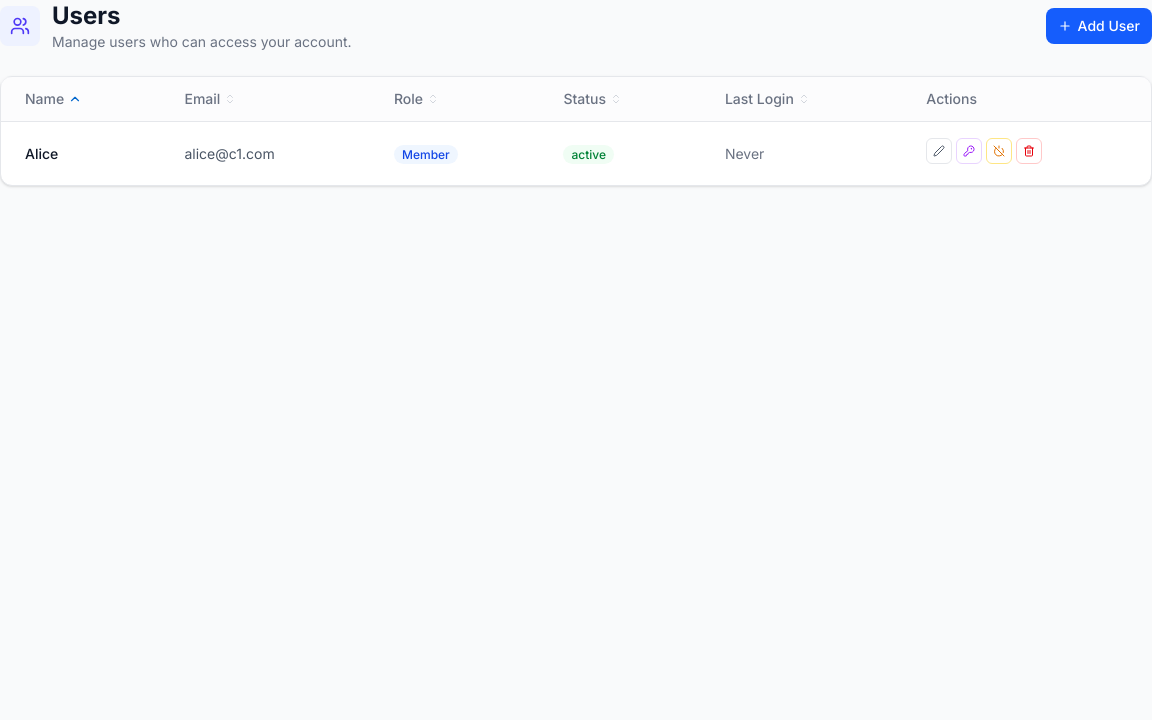
Test: SubUsers Page › as client_admin › with a row to edit › opens the edit modal when the edit button is clicked
The width and height of the screenshot is (1152, 720).
Click the button with test id "edit-user-u1".
click(939, 151)  # box x1=926 y1=138 x2=952 y2=164
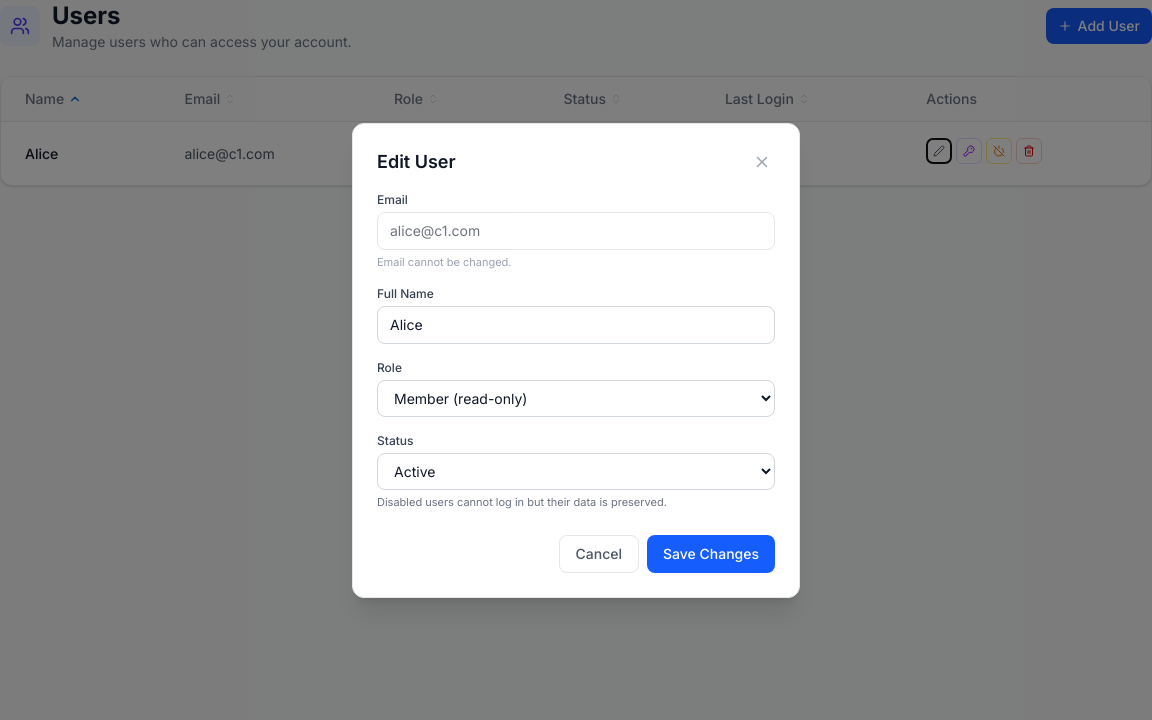
Expected: the element with test id "edit-user-modal" is shown
Expected: the field with test id "edit-user-name-input" holds "Alice", x1=377 y1=306 x2=775 y2=344
Expected: the field with test id "edit-user-email-input" is disabled, x1=377 y1=212 x2=775 y2=250
